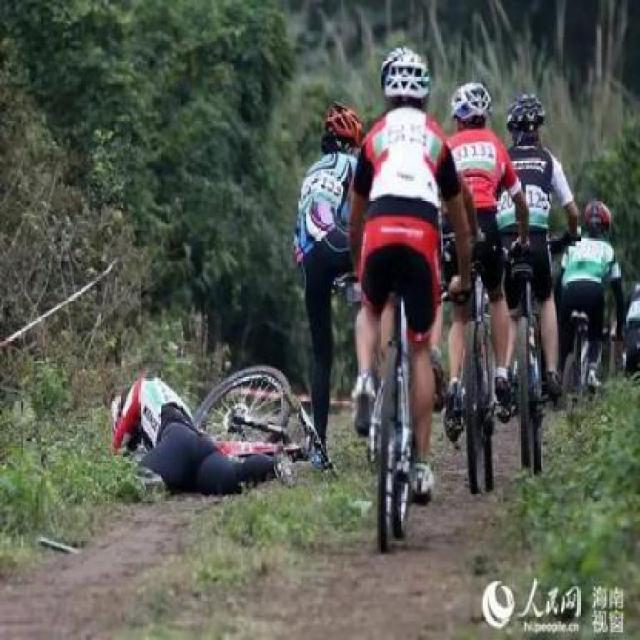fall: (96, 359, 295, 504)
